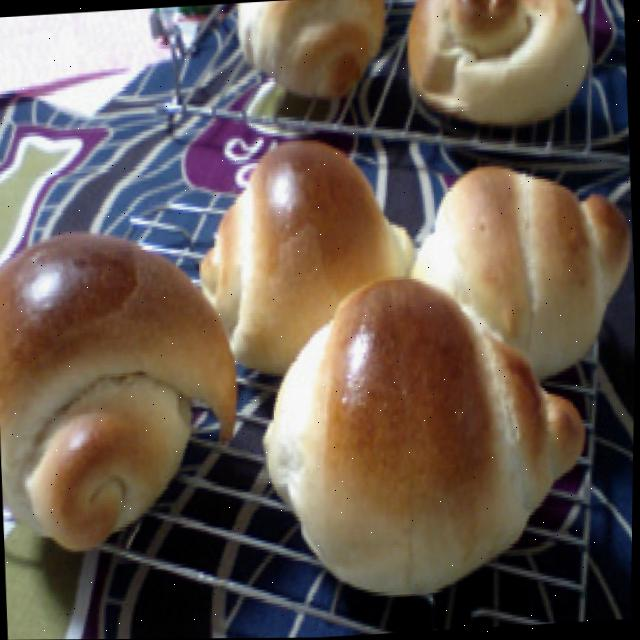面包点心: (232, 255, 606, 621)
